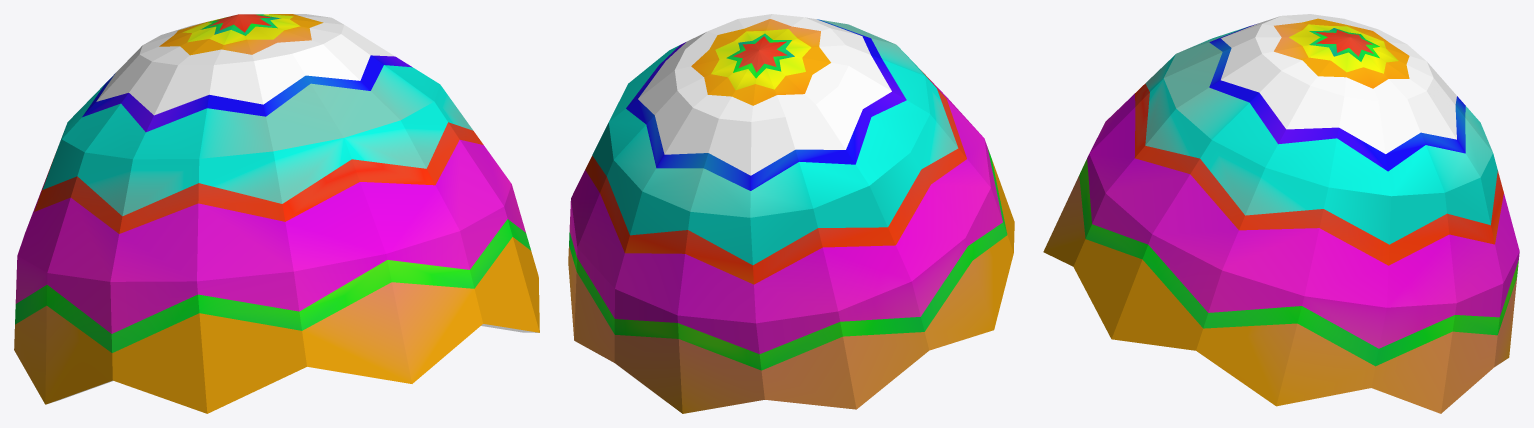
File: Egg Hat.fbx
3 renders of one model, left to right at view 1: azimuth 30°, elevation 25°; view 2: azimuth 150°, elevation 25°; view 3: azimuth 270°, elevation 25°, orthographic. The views are drawn at different scales.
Visible parts, largest first — view 1: Cube; view 2: Cube; view 3: Cube.
Boxes of the visible parts, x1=… form: Cube: x1=14, y1=14, x2=539, y2=413; Cube: x1=568, y1=14, x2=1014, y2=413; Cube: x1=1043, y1=14, x2=1519, y2=413.
Bounding box in the file's own units: 26.17 × 19.26 × 25.96.
